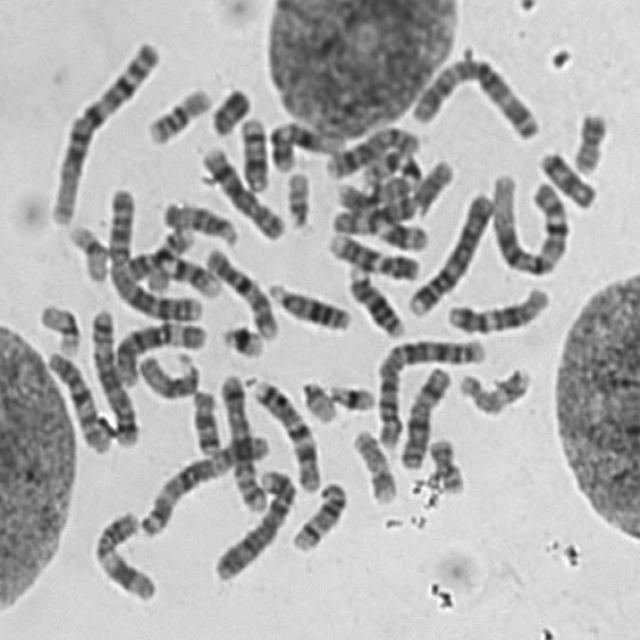A1: (41, 31, 162, 228), (483, 165, 573, 278)
A2: (100, 178, 206, 325), (368, 327, 490, 453)
A3: (132, 427, 271, 539), (403, 48, 543, 141)
B4: (402, 184, 497, 319), (206, 460, 300, 583)
B5: (84, 299, 141, 448), (213, 365, 270, 513)
C10: (198, 238, 282, 342), (40, 343, 116, 455)
C11: (85, 502, 160, 604), (325, 199, 431, 252)
C12: (440, 278, 553, 336), (263, 112, 346, 173)
C6: (324, 150, 458, 233), (108, 311, 210, 387)
C7: (244, 370, 323, 494), (356, 141, 424, 198)
C8: (194, 138, 288, 242), (319, 118, 423, 180)
C9: (118, 243, 224, 300), (321, 225, 422, 282)
D13: (261, 272, 354, 334), (341, 258, 406, 339)
D14: (284, 473, 349, 552), (233, 110, 271, 194)
D15: (156, 192, 240, 246), (132, 344, 202, 400)
E16: (124, 218, 198, 288), (140, 78, 214, 146)
E17: (450, 357, 536, 416), (346, 422, 398, 506)
E18: (531, 141, 600, 209), (185, 381, 224, 457)
F19: (61, 215, 111, 285), (32, 296, 83, 356)
F20: (565, 102, 612, 176), (421, 428, 468, 495)
G21: (214, 315, 268, 359), (323, 375, 378, 412)
G22: (294, 371, 339, 425), (279, 162, 313, 230)
X: (394, 358, 454, 471)
Y: (203, 79, 253, 138)
